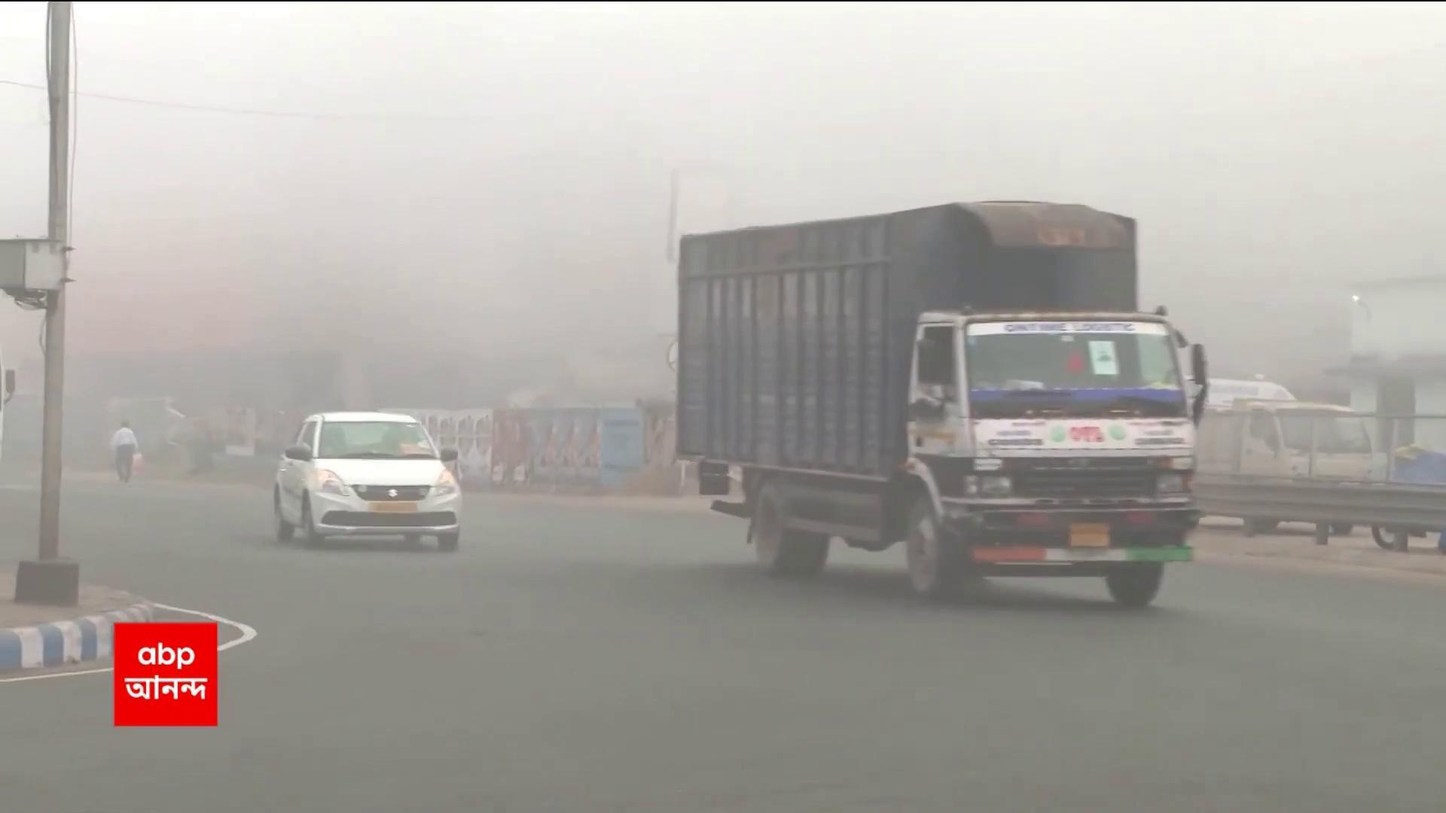Car: (272, 410, 466, 554)
Truck: (670, 196, 1203, 612)
